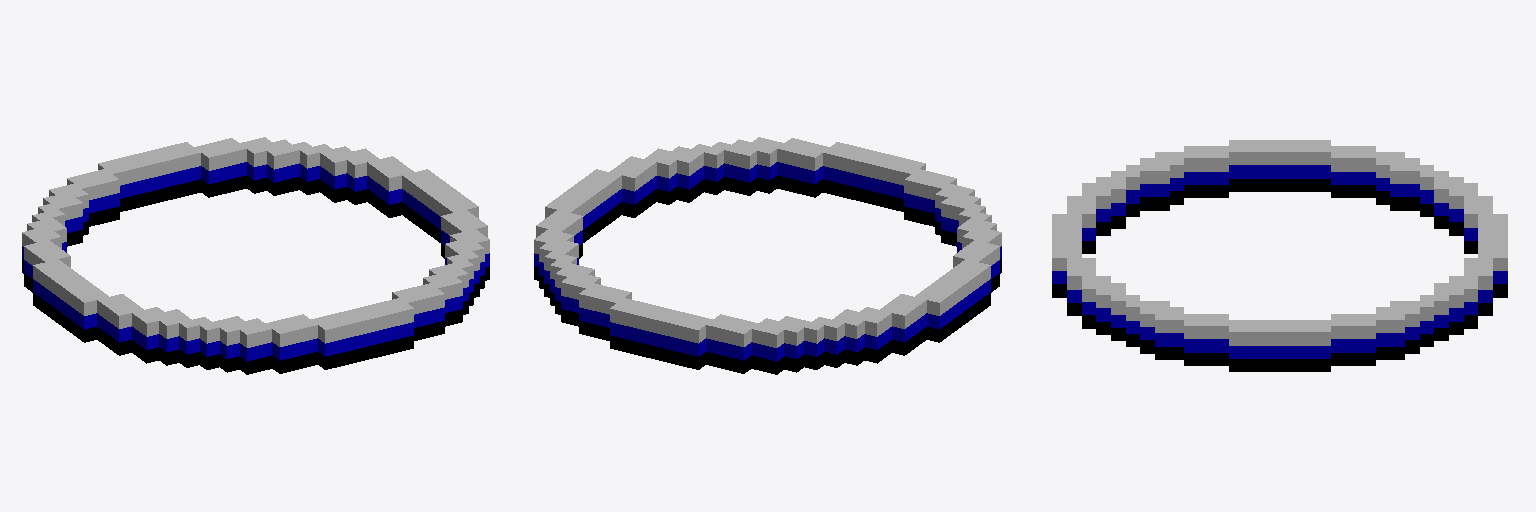
3 renders of one model, left to right at view 1: azimuth 30°, elevation 25°; view 2: azimuth 150°, elevation 25°; view 3: azimuth 270°, elevation 25°, orthographic.
Parts seen in each view (by area): view 1: battle_zone_ring_blue; view 2: battle_zone_ring_blue; view 3: battle_zone_ring_blue.
Part boxes in pixels (bbox=[...]): battle_zone_ring_blue: bbox=[22, 137, 489, 374]; battle_zone_ring_blue: bbox=[534, 137, 1001, 374]; battle_zone_ring_blue: bbox=[1052, 140, 1507, 371].
Bounding box in the file's own units: 31 × 3 × 31.
1 materials, 1 textured.